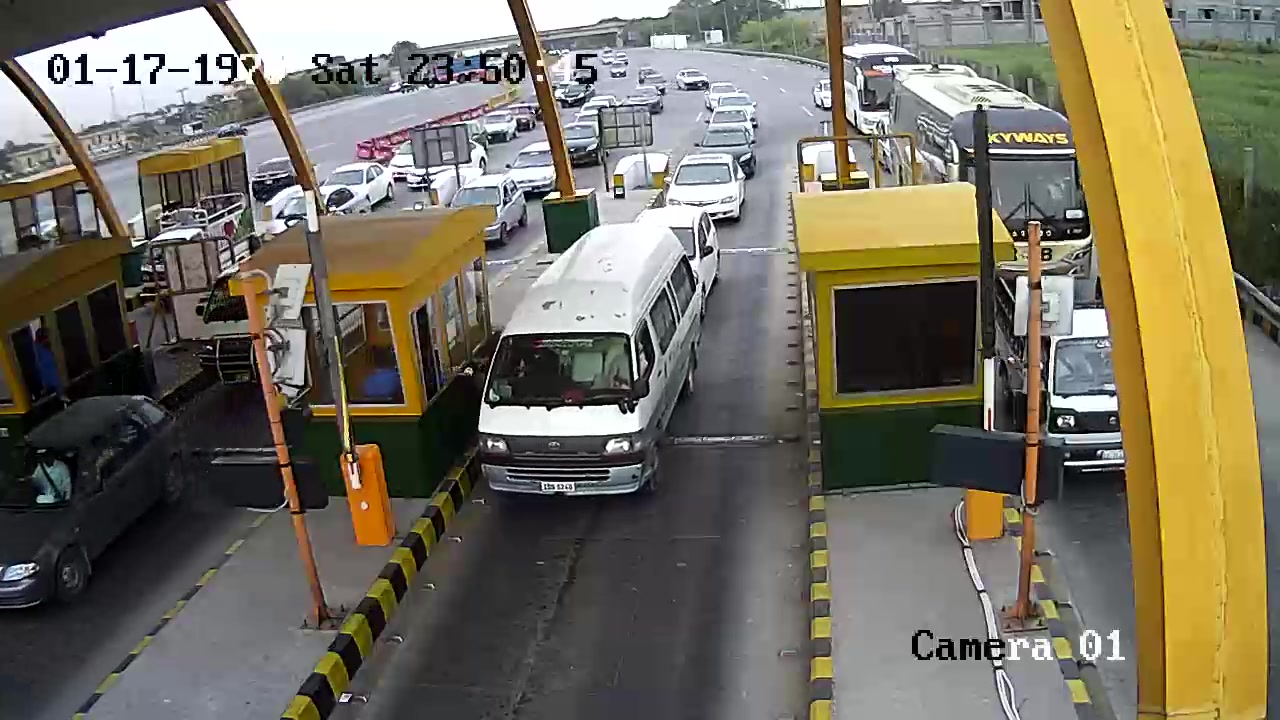F3: (480, 223, 713, 504)
